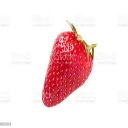strawberry: (41, 20, 95, 109)
